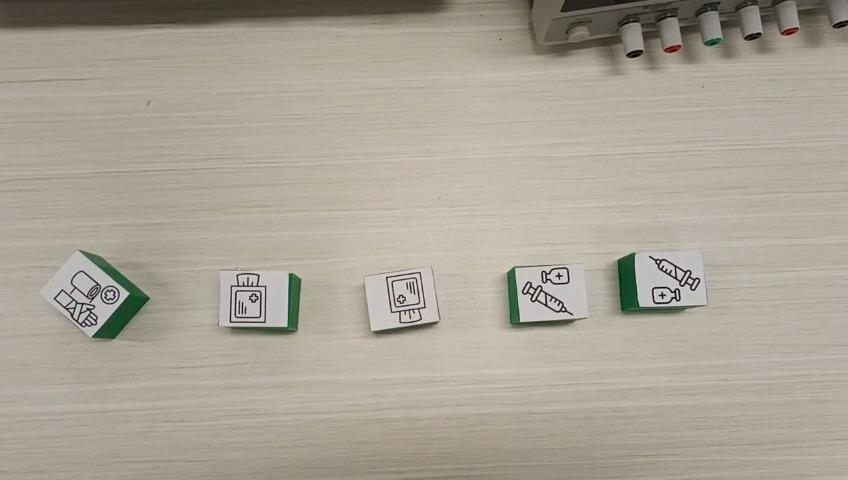Bandages: (36, 249, 149, 339)
Gauze: (218, 268, 303, 332), (363, 265, 442, 333)
antiseptic cream: (615, 248, 707, 313), (505, 262, 591, 325)
